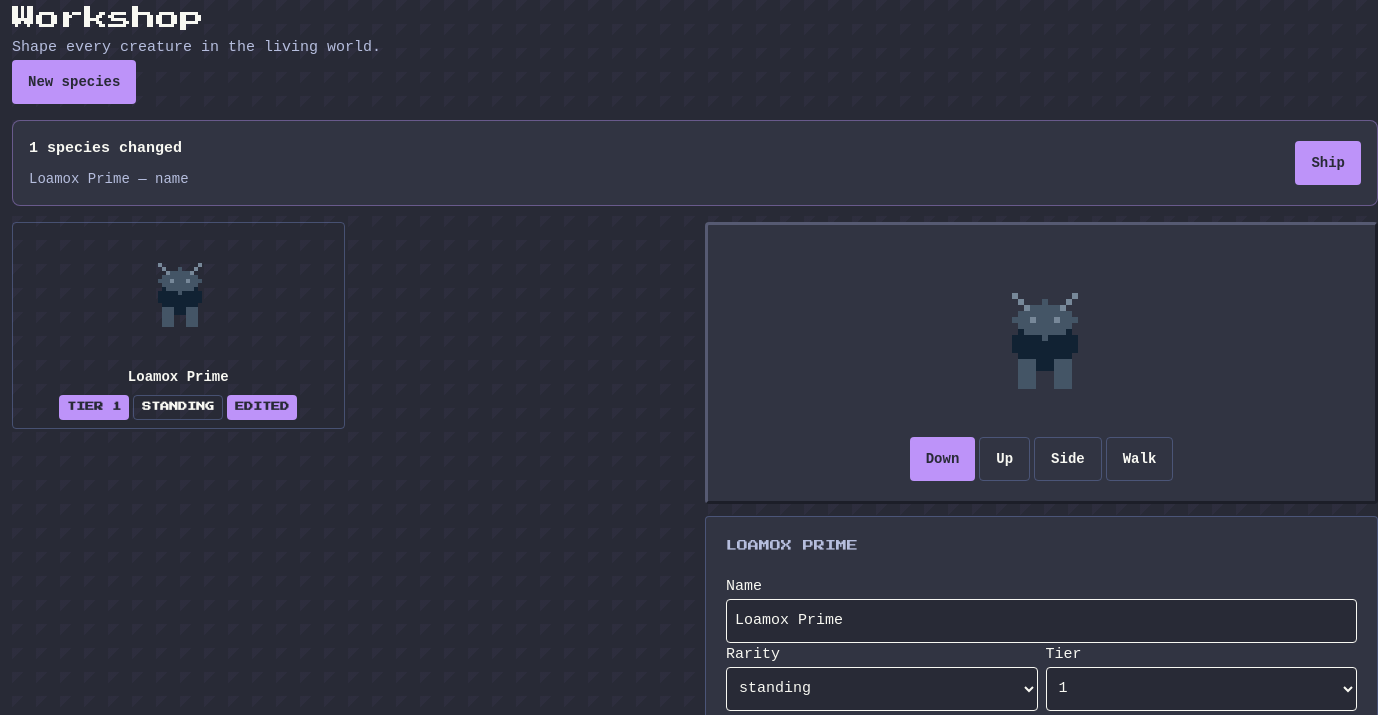
it: Workshop › says it shipped and clears the bar
Click the button "Ship": (1328, 163) [1295,141,1361,185]
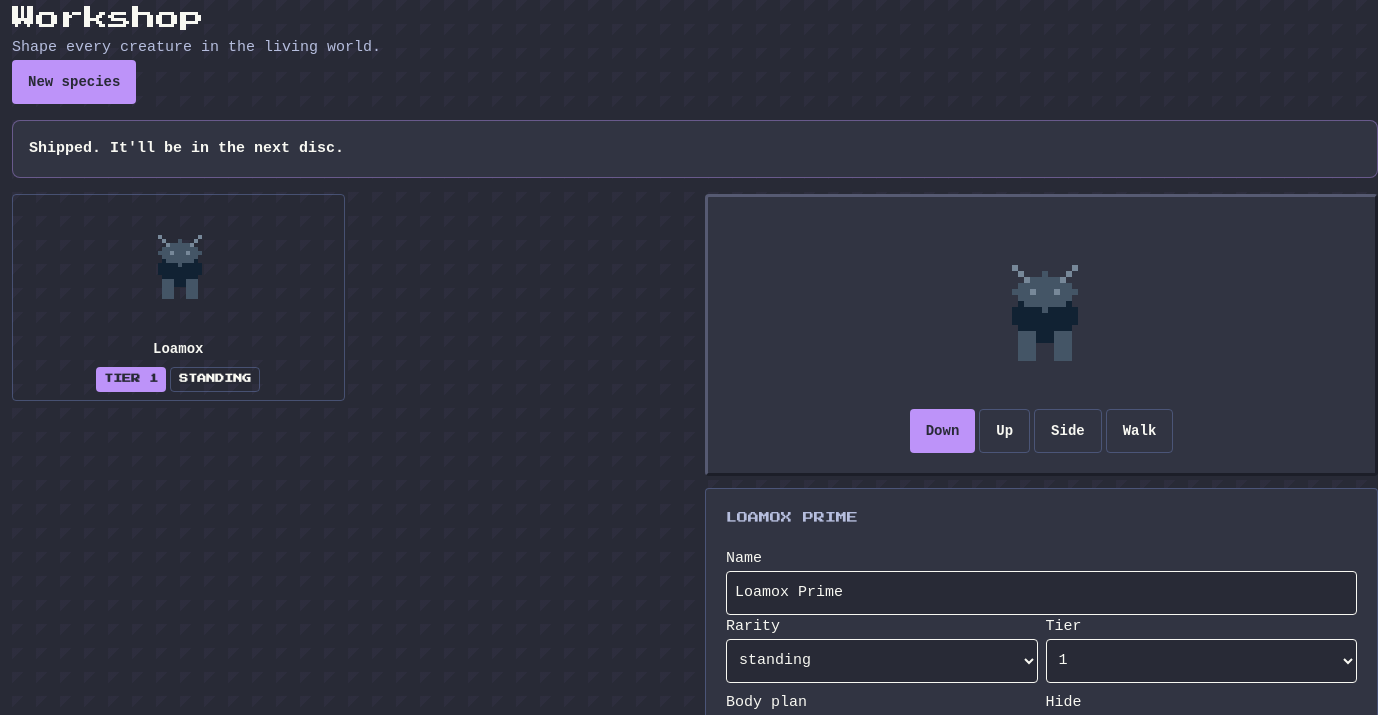
Check: the text "Shipped. It'll be in the next disc." is shown, box [29,140,344,157]
